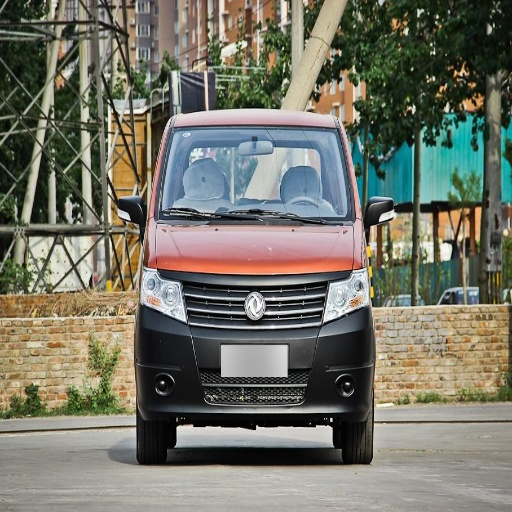front_bumper: (137, 270, 372, 426)
front_right_light: (141, 262, 184, 320)
hood: (151, 222, 355, 274)
